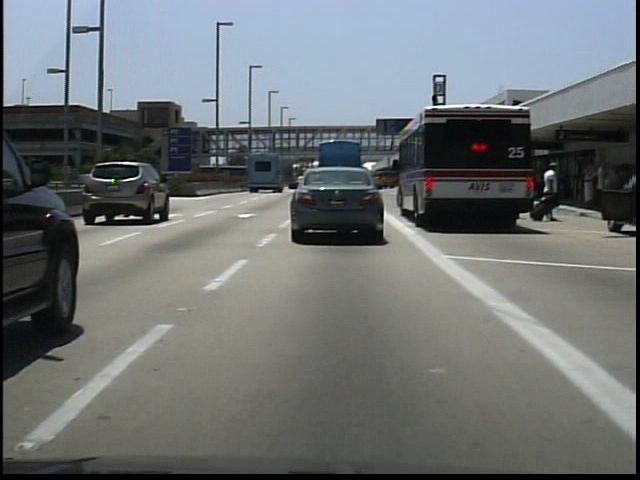person: (538, 160, 560, 223)
